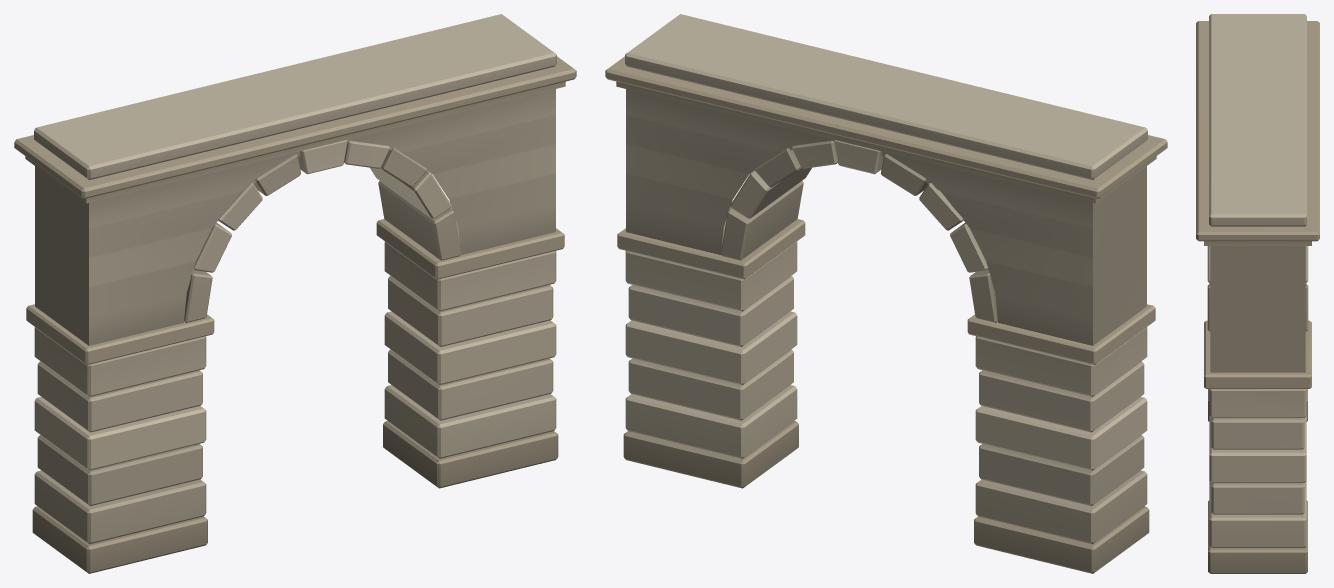
The model's file is plaza-arch.glb.
3 views of the same model, side by side, from view 1: azimuth 30°, elevation 25°; view 2: azimuth 150°, elevation 25°; view 3: azimuth 270°, elevation 25° (orthographic). The views are drawn at different scales.
Visible parts, largest first — view 1: arch; view 2: arch; view 3: arch.
Boxes of the visible parts, x1=… form: arch: x1=14, y1=14, x2=576, y2=573; arch: x1=605, y1=14, x2=1167, y2=573; arch: x1=1196, y1=14, x2=1319, y2=573.
Bounding box in the file's own units: 6.36 × 5 × 1.56.
